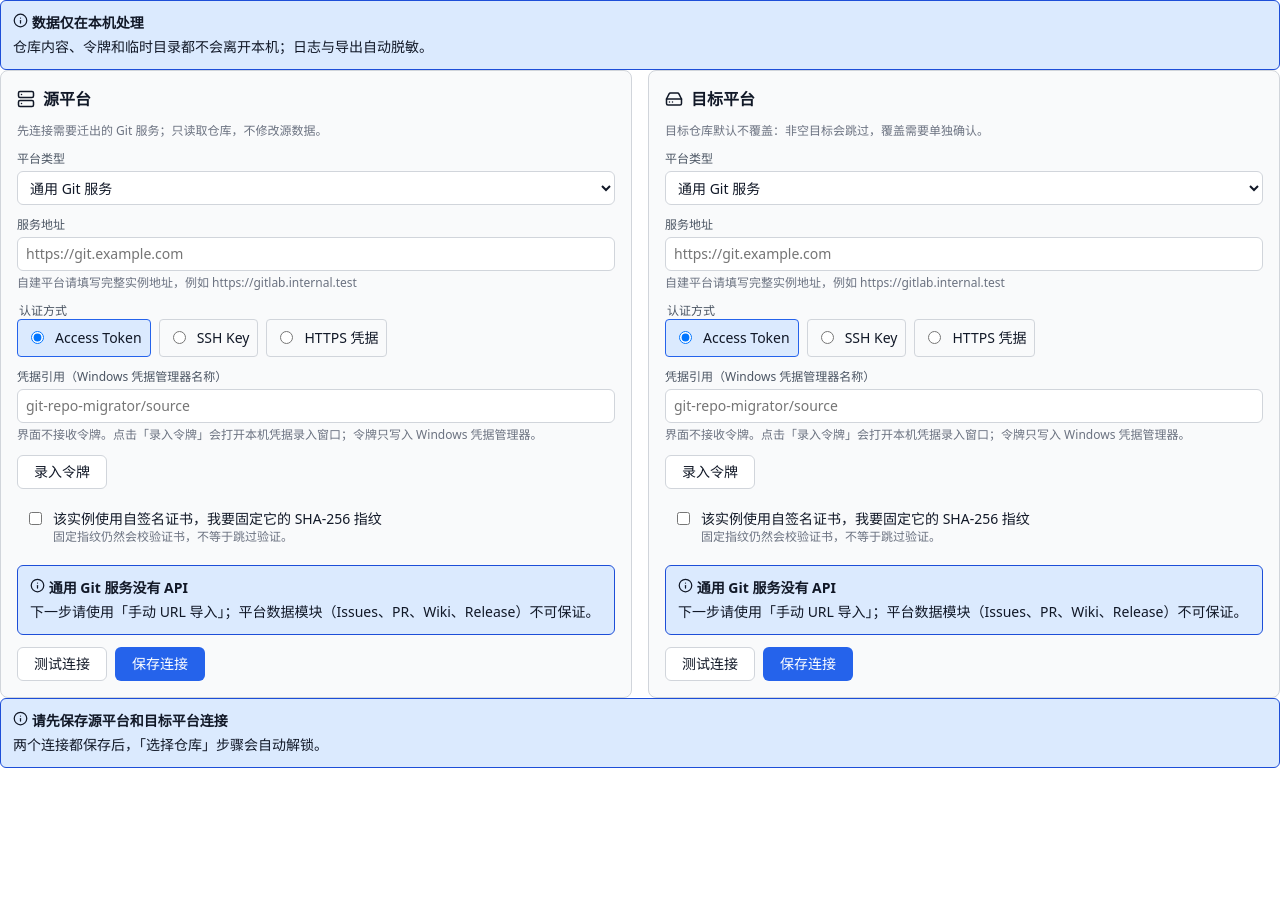
Test: 本机凭据录入 › 只把凭据名称发给后端，并用返回的引用回填表单
Click the button "录入令牌" below "先连接需要迁出的 Git 服务；只读取仓库，不修改源数据。" at (62, 472), box [17, 455, 107, 489]
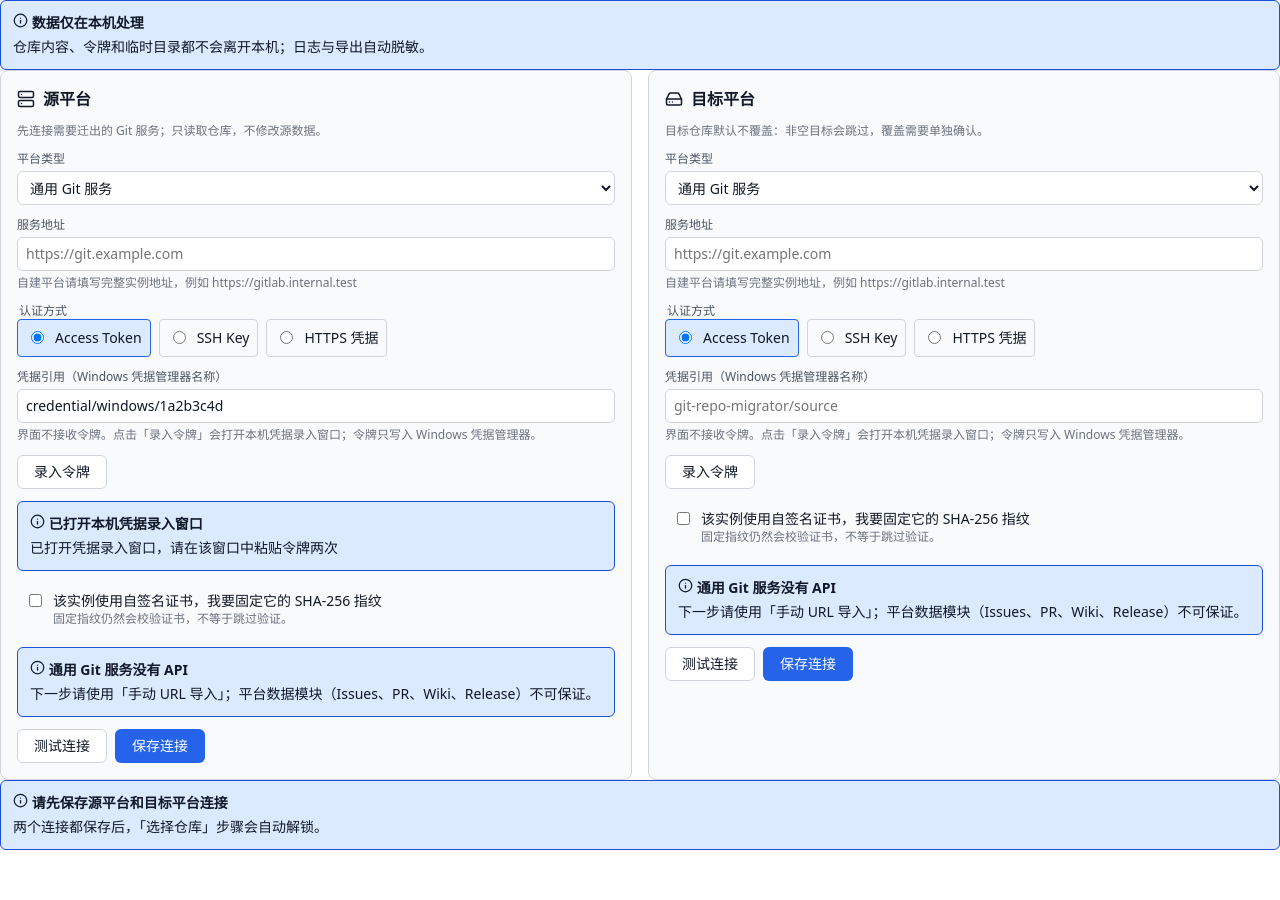
Result: the field labelled "凭据引用（Windows 凭据管理器名称）" below "先连接需要迁出的 Git 服务；只读取仓库，不修改源数据。" holds "credential/windows/1a2b3c4d" at [17, 389, 615, 423]
Result: the text "已打开本机凭据录入窗口" is shown at [30, 514, 203, 533]
